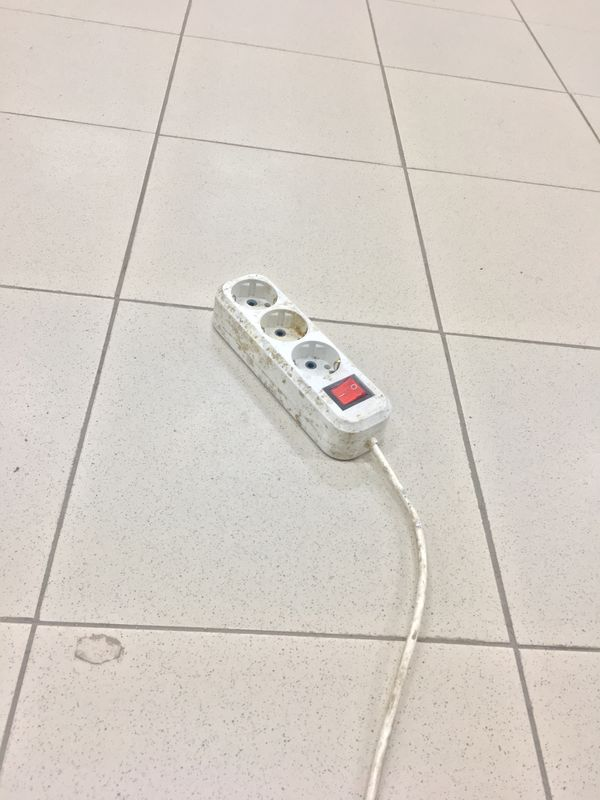socket: (202, 267, 401, 467)
